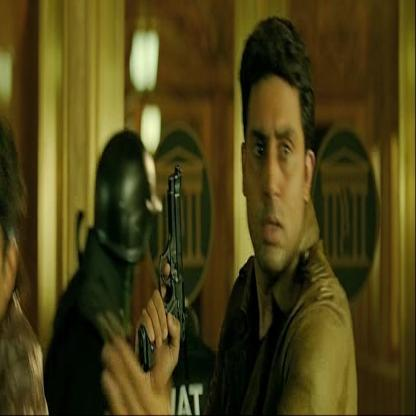gun: (141, 143, 189, 362)
